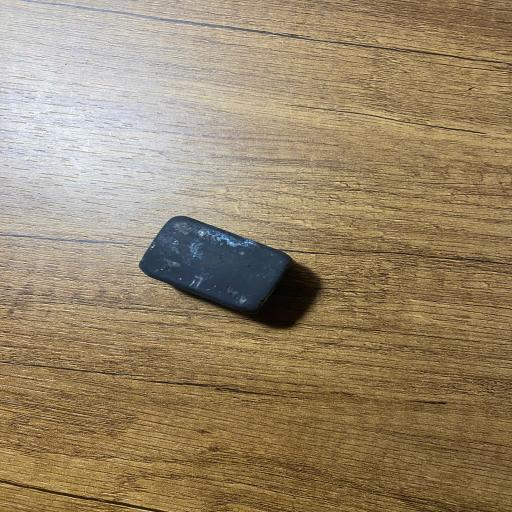T: (139, 215, 288, 316)
